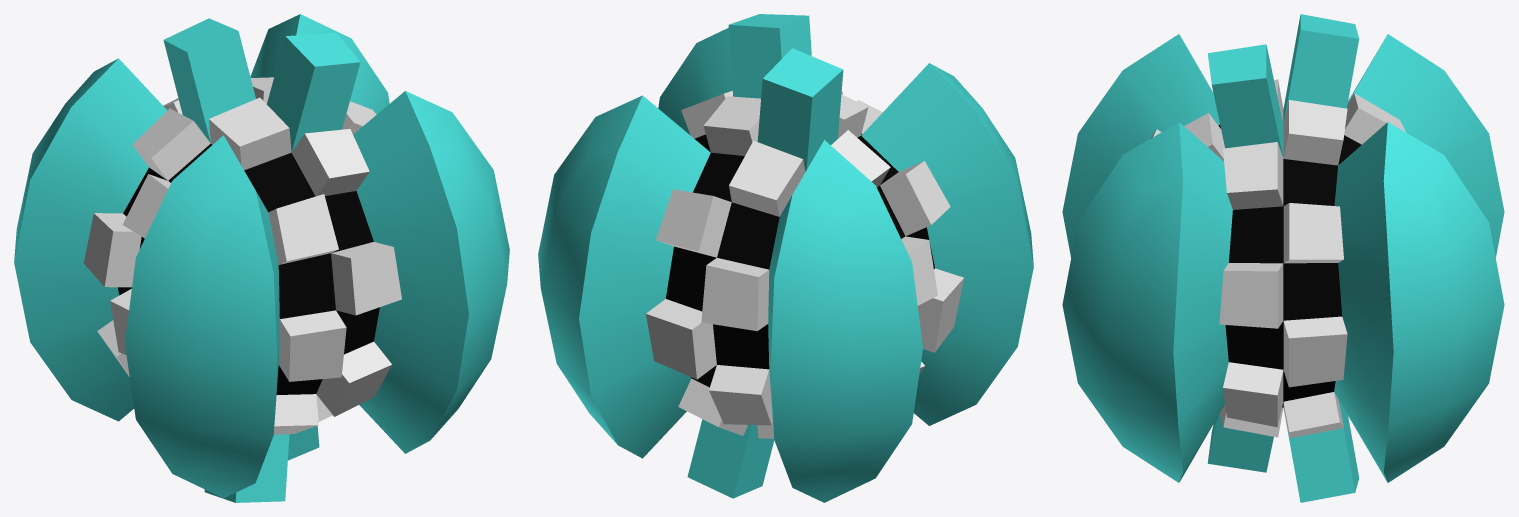
The model's file is Super.fbx.
3 renders of one model, left to right at view 1: azimuth 30°, elevation 25°; view 2: azimuth 150°, elevation 25°; view 3: azimuth 270°, elevation 25°, orthographic.
Visible parts, largest first — view 1: pCube1; view 2: pCube1; view 3: pCube1.
Boxes of the visible parts, x1,y1,x2,y2 form: pCube1: (14, 14, 509, 502); pCube1: (538, 14, 1033, 502); pCube1: (1062, 14, 1504, 502).
Bounding box in the file's own units: 1.32 × 1.46 × 1.32.
